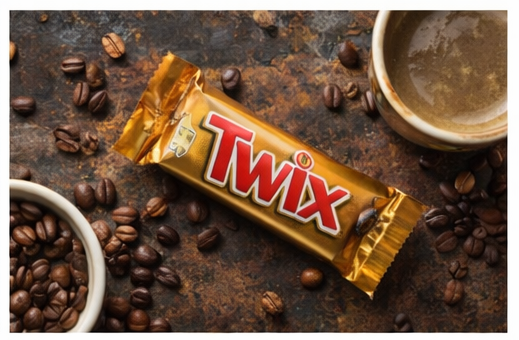TWIX: (166, 48, 473, 167)
